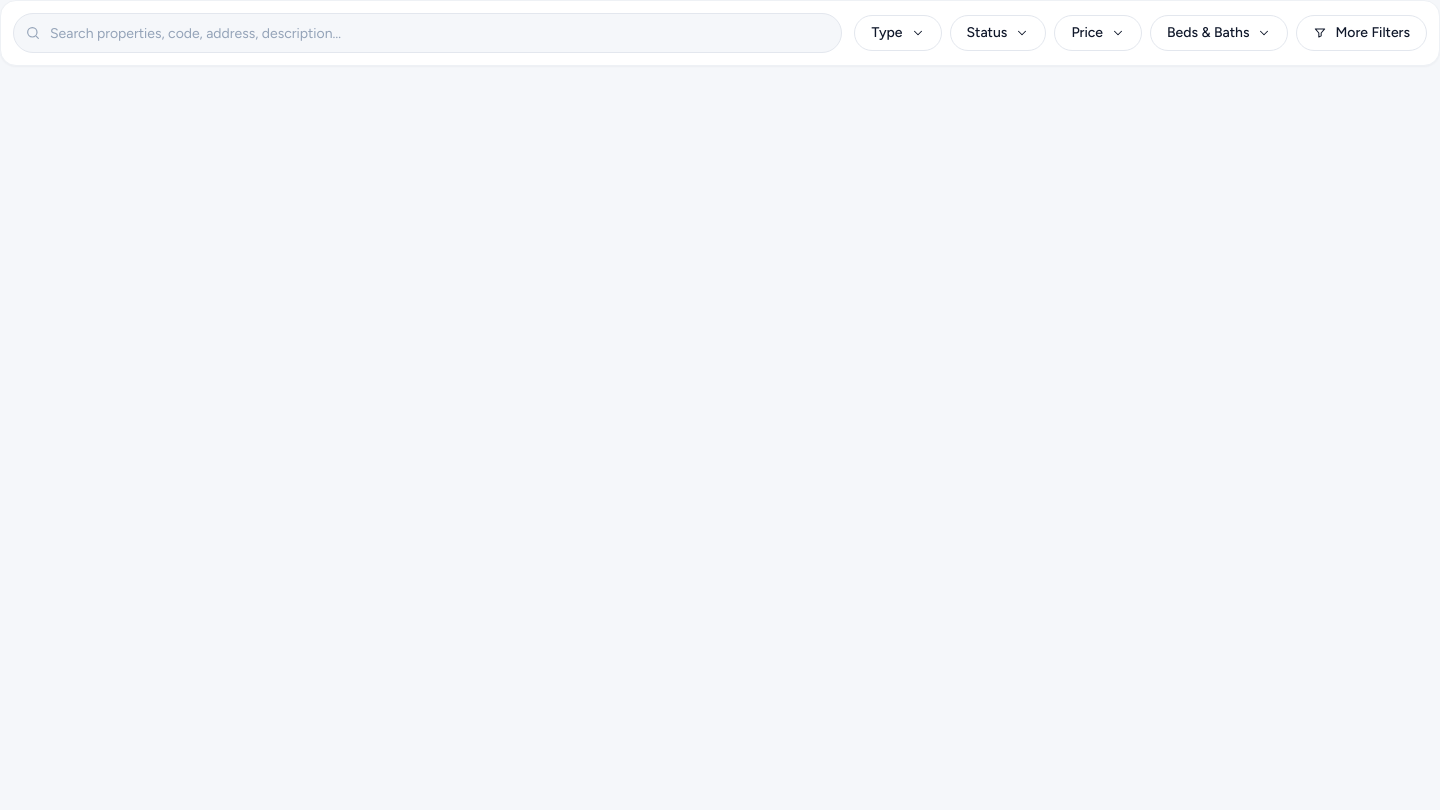
Test case: FilterControls › toggles a status filter via the Status dialog and shows active chip
Open Status dialog
Click the button "Status" at point(998, 33), box [950,15,1046,51]
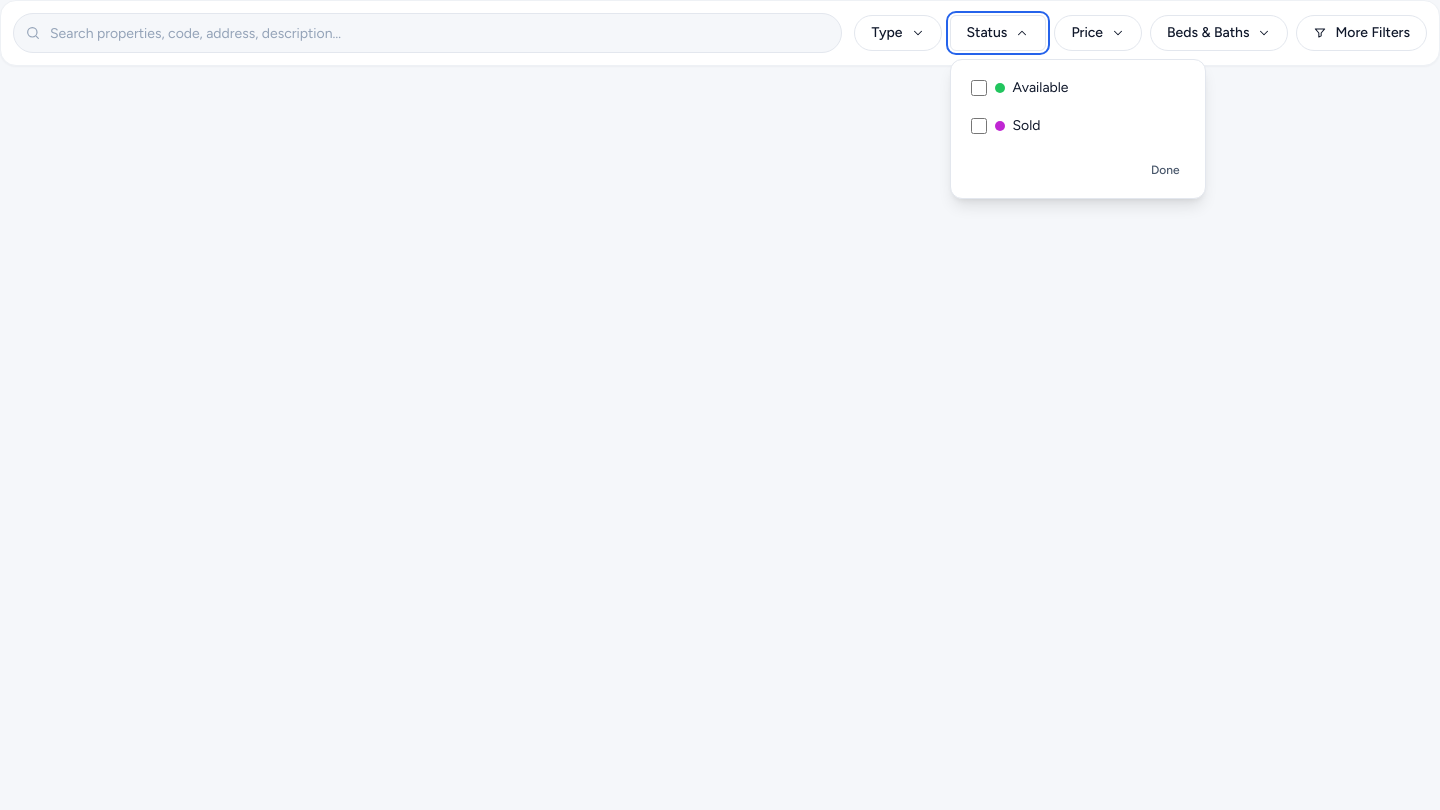
Now the checkbox labelled "Available" is not checked
Click the checkbox labelled "Available" at point(978, 88), box [970,80,986,96]
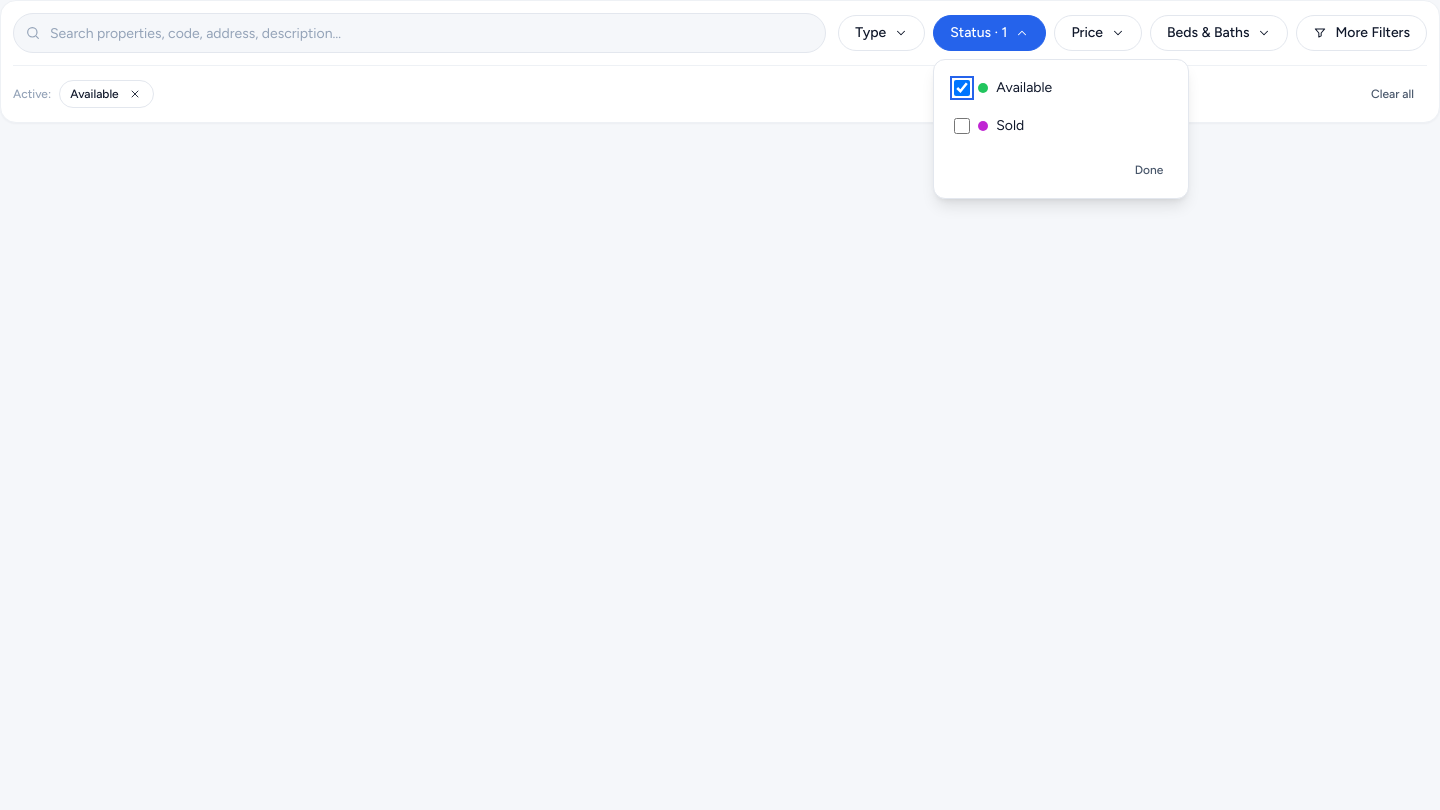
Now the button named "Remove Available" is shown, box [127,86,143,102]
